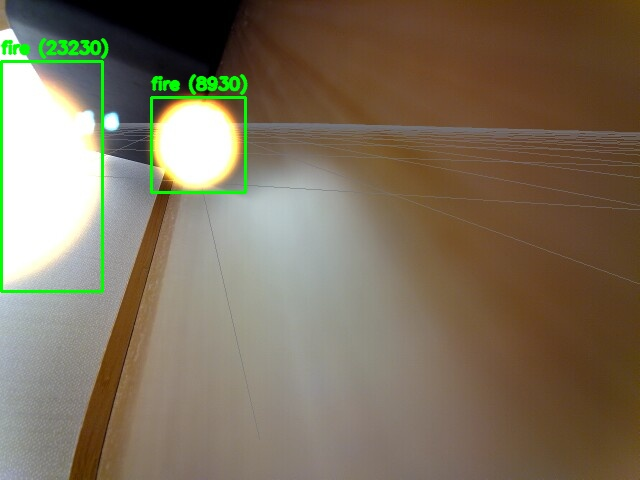fire: (1, 61, 102, 291), (151, 97, 245, 192)
